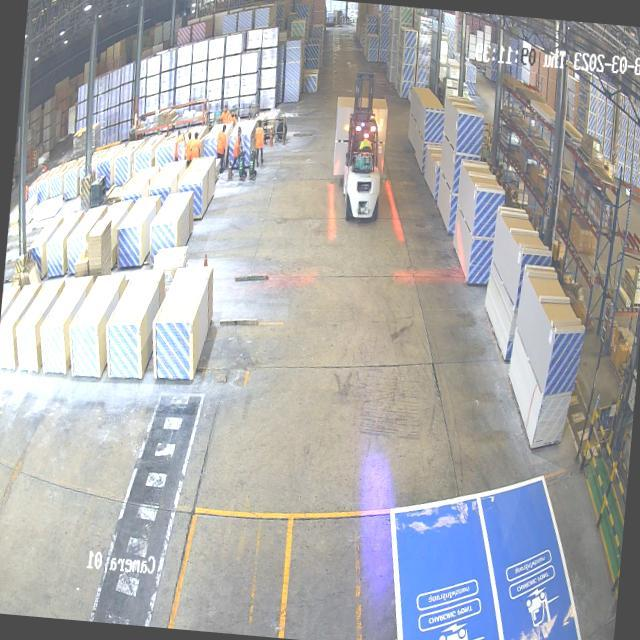driver: (357, 132, 372, 152)
forklift: (336, 64, 394, 228)
person: (214, 120, 228, 174), (252, 117, 267, 167), (230, 124, 244, 174), (190, 132, 200, 160), (184, 132, 192, 166)
